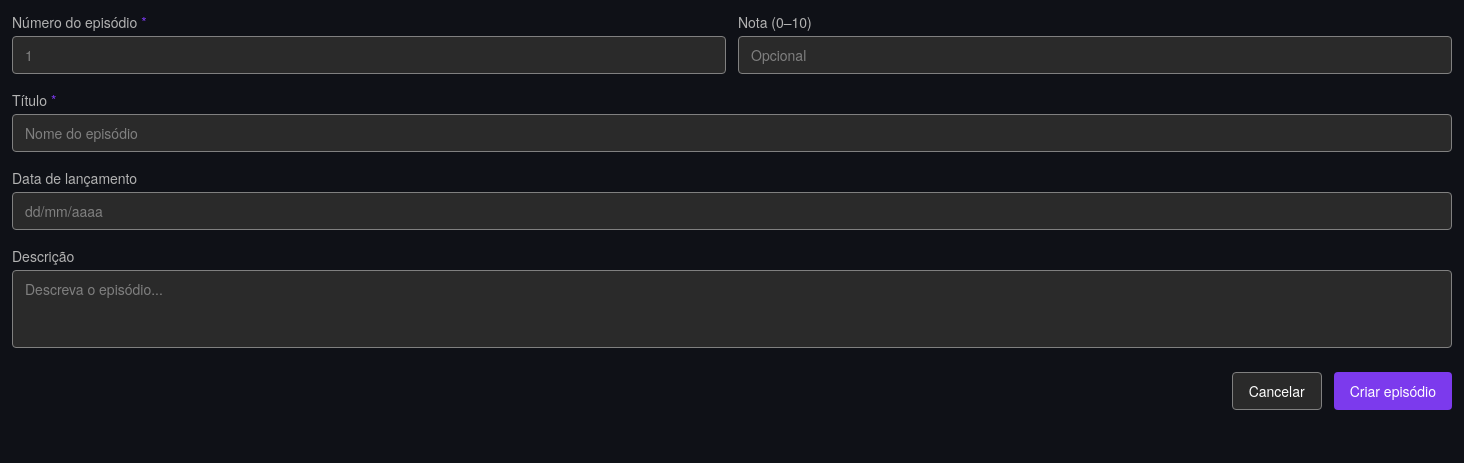
Test: EpisodeForm — create mode › shows error when episode number is missing
Type "Pilot" into the field with placeholder "Nome do episódio". click: (732, 133)
box: [12, 114, 1452, 152]
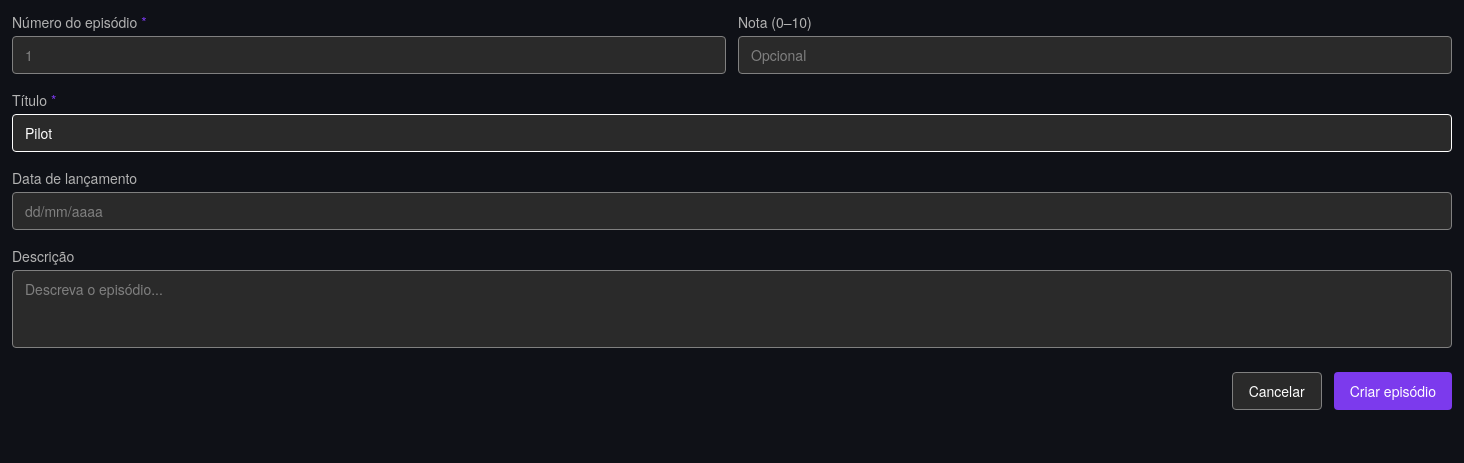
Submit the form
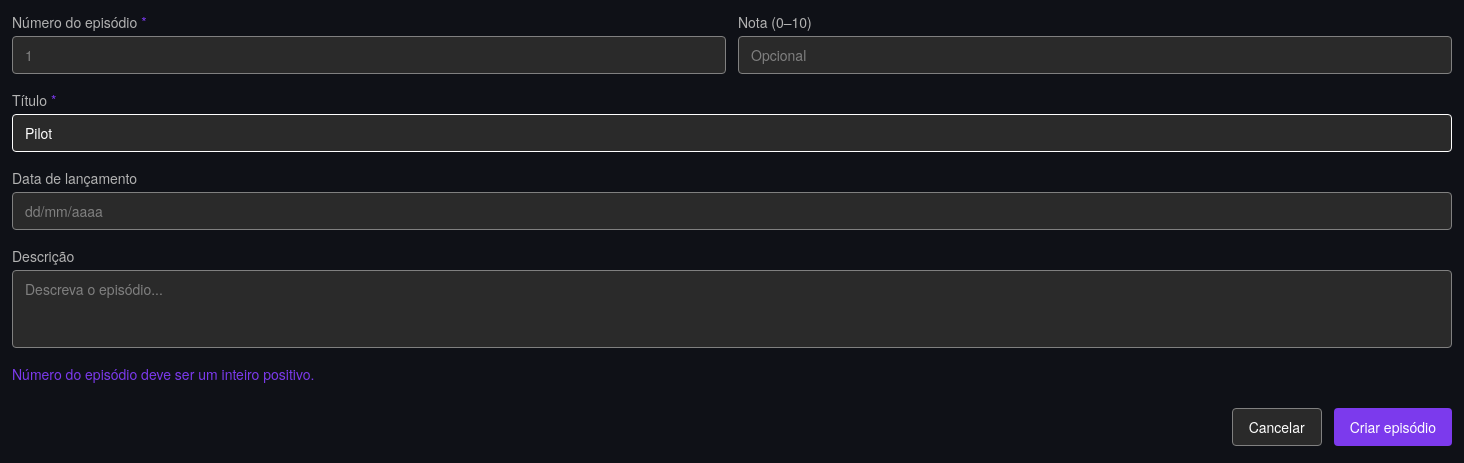
expect the text "Número do episódio deve ser um inteiro positivo." is shown: met, box [12, 364, 314, 384]
